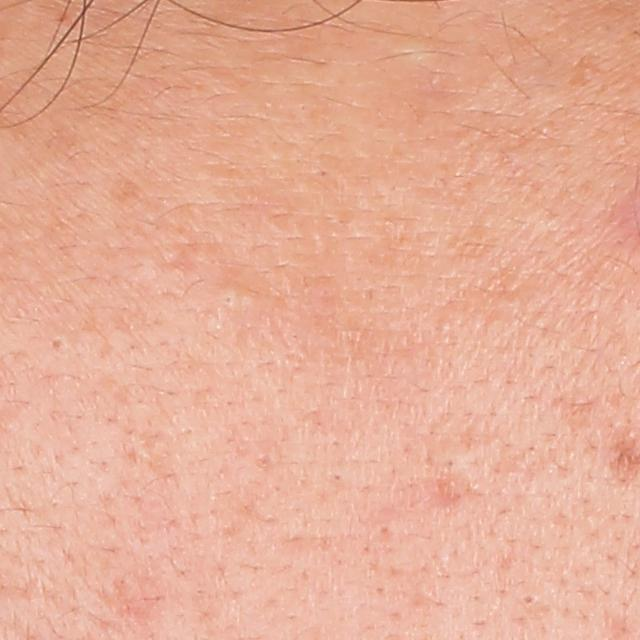comedo: (45, 330, 71, 357), (218, 287, 237, 308), (517, 591, 536, 606)
